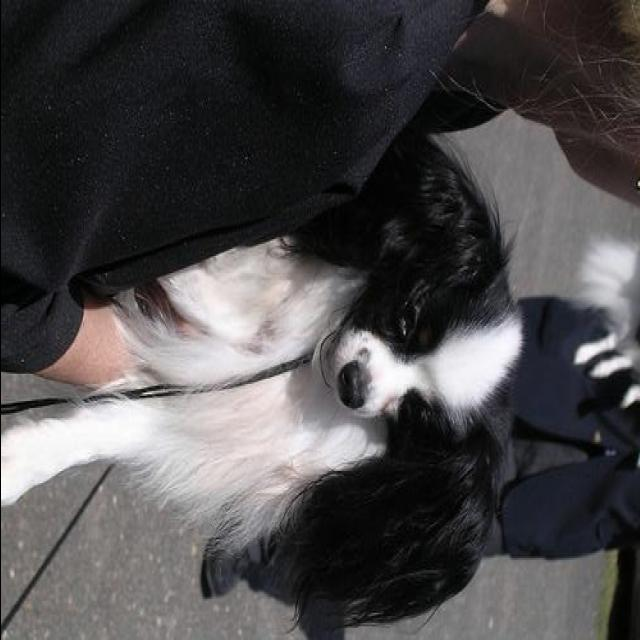papillon: (2, 112, 524, 624)
